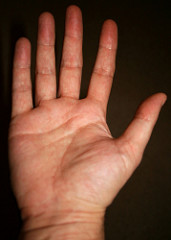palm: (18, 102, 136, 199)
